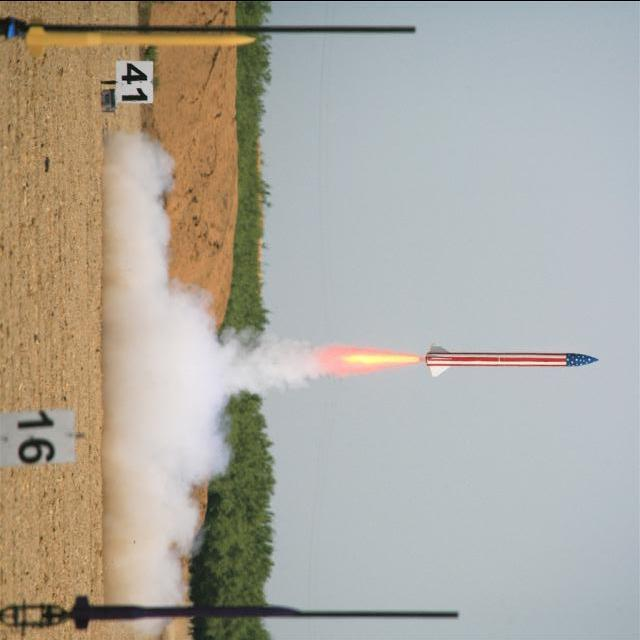missile: (412, 344, 607, 386)
